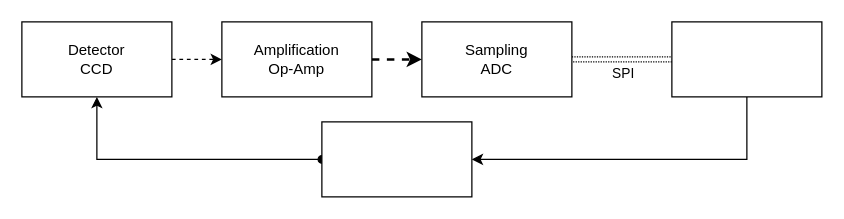
This 844x219 diagram has some shape labels left out. The shapes that lost their labels are listed below. From the top down, each one's box as (x1, y1, x2, y2) in pixels, then its label:
(671, 21, 822, 97): Processing Microcontroller
(321, 121, 472, 197): Inverter NOT-Gate
